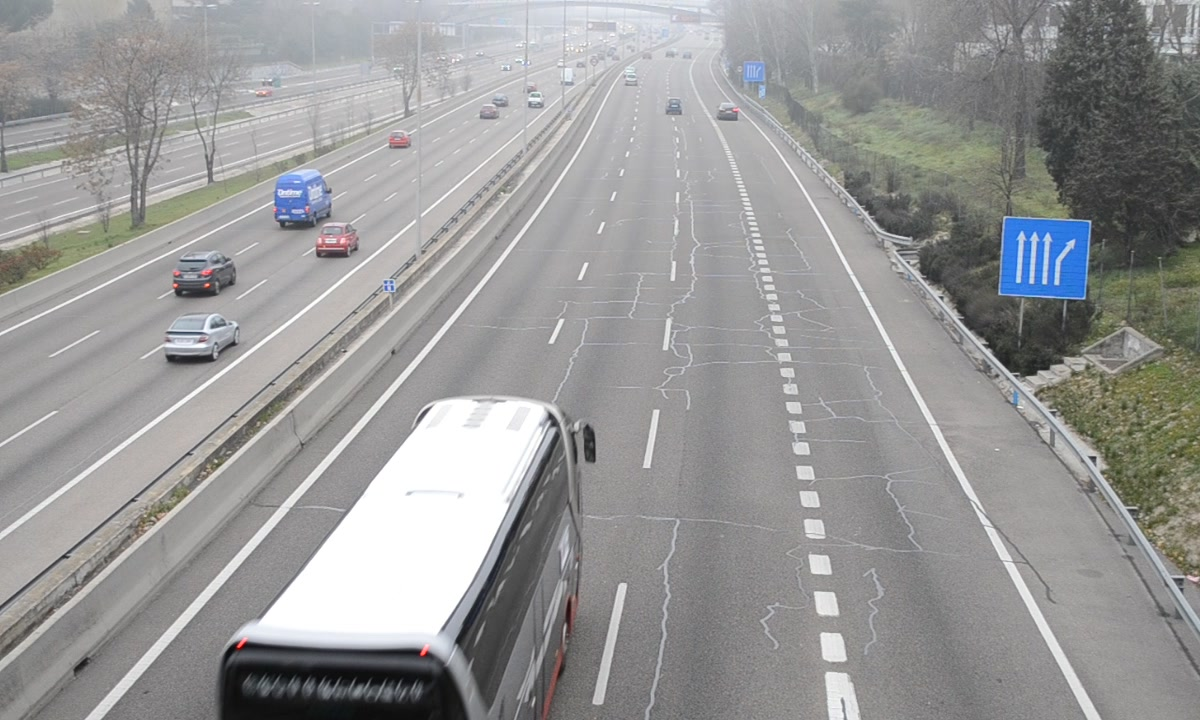bus: (214, 399, 580, 719)
car: (716, 102, 739, 122), (664, 96, 685, 117)
